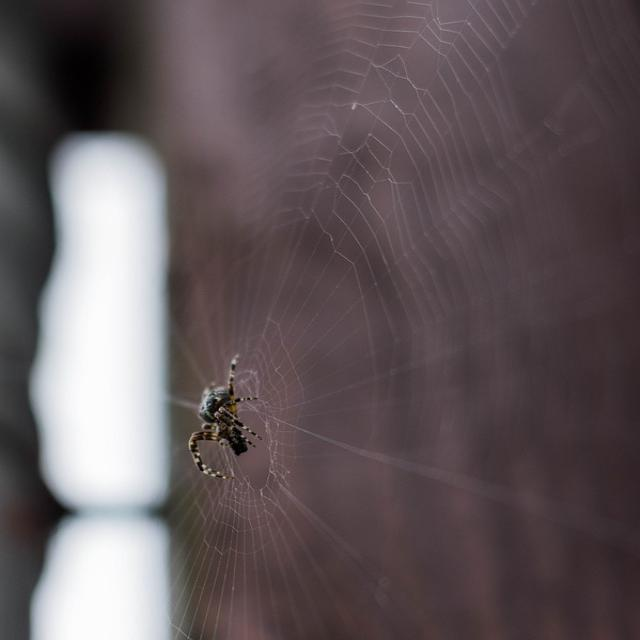spyder: (188, 356, 259, 478)
